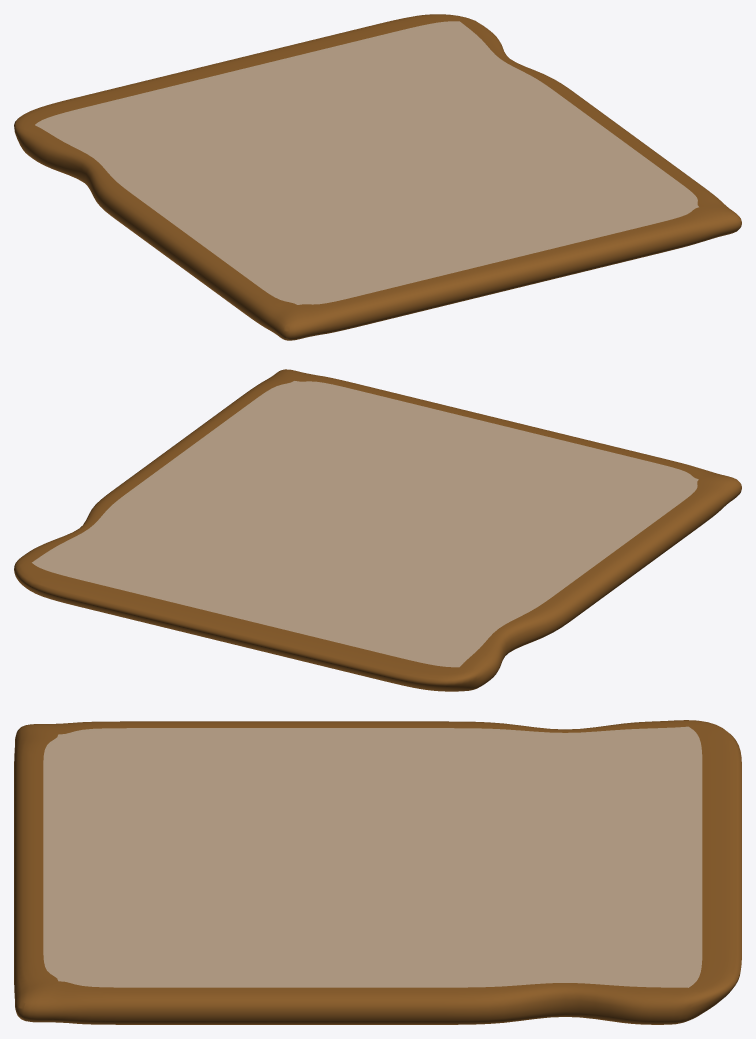
File: Bread.fbx
3 views of the same model, one above another, from view 1: azimuth 30°, elevation 25°; view 2: azimuth 150°, elevation 25°; view 3: azimuth 270°, elevation 25° (orthographic). The views are drawn at different scales.
Visible parts, largest first — view 1: BREAD; view 2: BREAD; view 3: BREAD.
Boxes of the visible parts, left/top/right/bottom form: BREAD: left=14, top=14, right=741, bottom=340; BREAD: left=14, top=369, right=741, bottom=691; BREAD: left=14, top=720, right=741, bottom=1024.
Size of the model in its own units: 996 by 50 by 1078.
